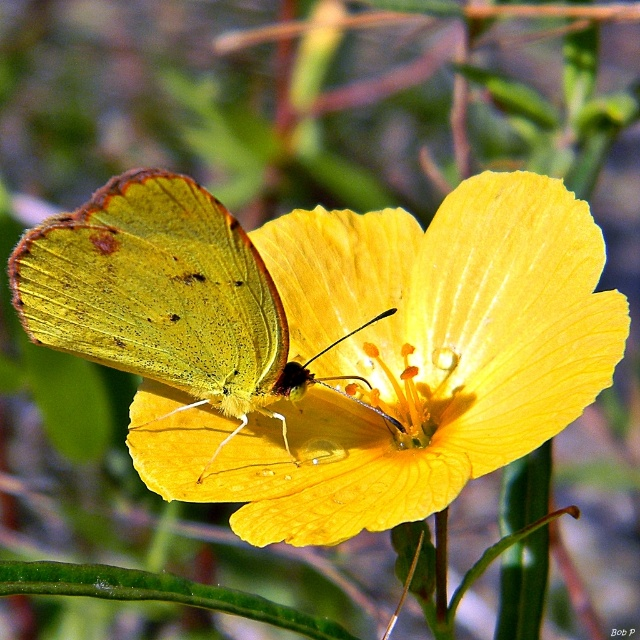Butterfly: (8, 165, 405, 486)
